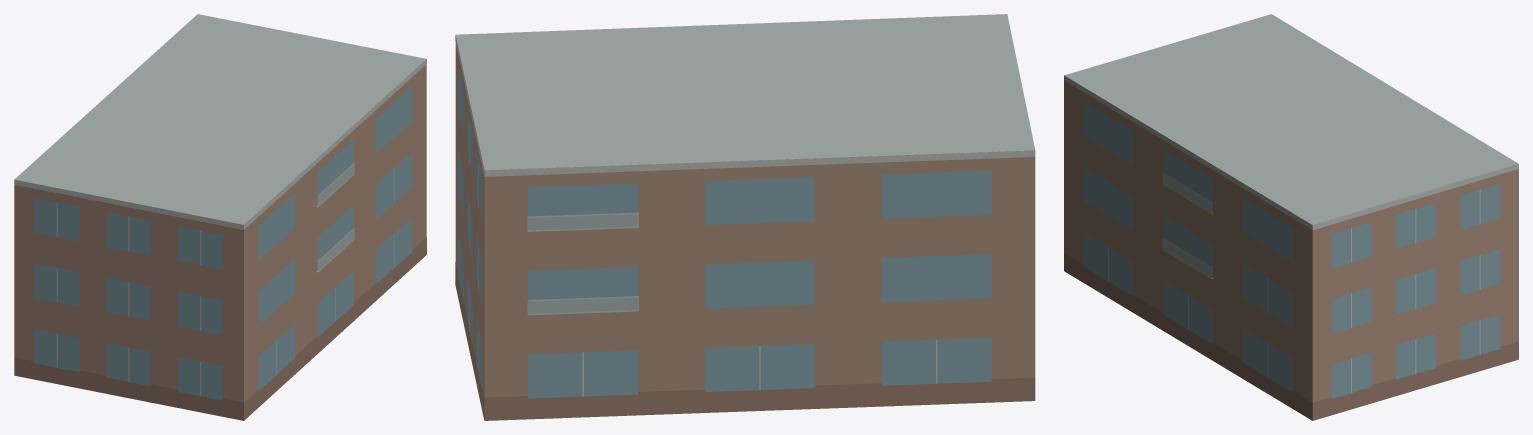
The model's file is survey-upis-32845528.glb.
3 views of the same model, side by side, from view 1: azimuth 30°, elevation 25°; view 2: azimuth 150°, elevation 25°; view 3: azimuth 270°, elevation 25° (orthographic). The views are drawn at different scales.
Visible parts, largest first — view 1: survey-upis-32845528.tmp; view 2: survey-upis-32845528.tmp; view 3: survey-upis-32845528.tmp.
Boxes of the visible parts, left/top/right/bottom form: survey-upis-32845528.tmp: left=14, top=14, right=426, bottom=420; survey-upis-32845528.tmp: left=455, top=14, right=1035, bottom=420; survey-upis-32845528.tmp: left=1064, top=14, right=1518, bottom=420.
Size of the model in its own units: 21.75 by 9.4 by 19.8.
